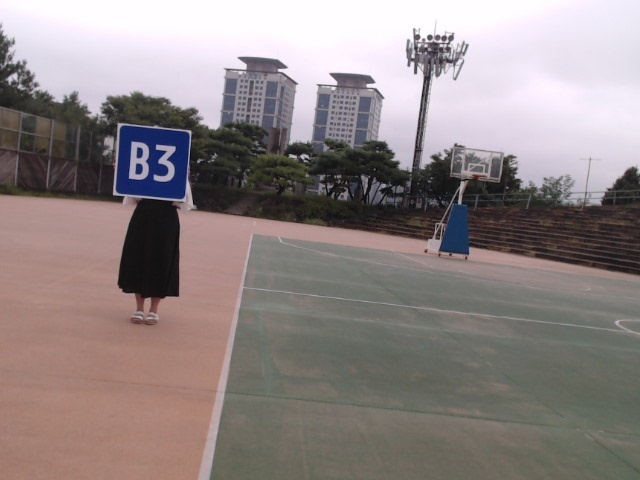delivery_b3: (115, 123, 191, 201)
